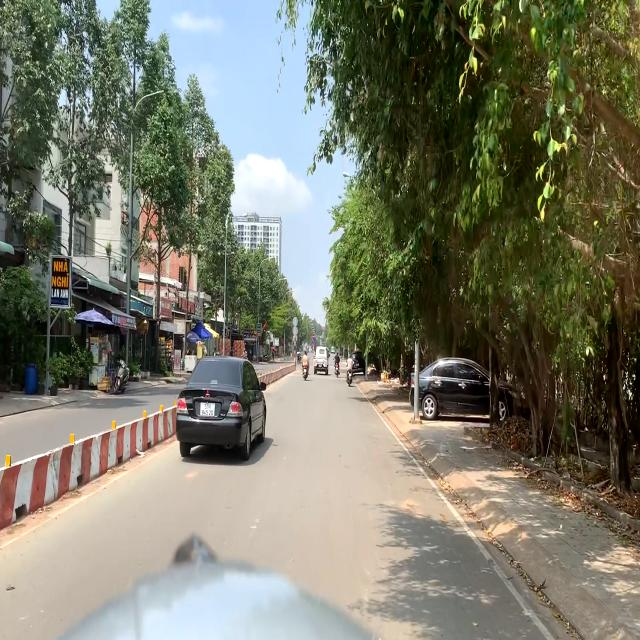P.102: (312, 334, 315, 339)
R.302a: (312, 339, 315, 343)
